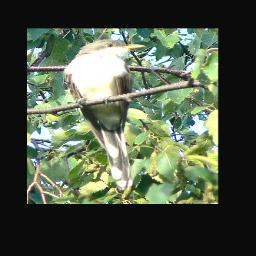Cuckoo: (64, 38, 146, 191)
